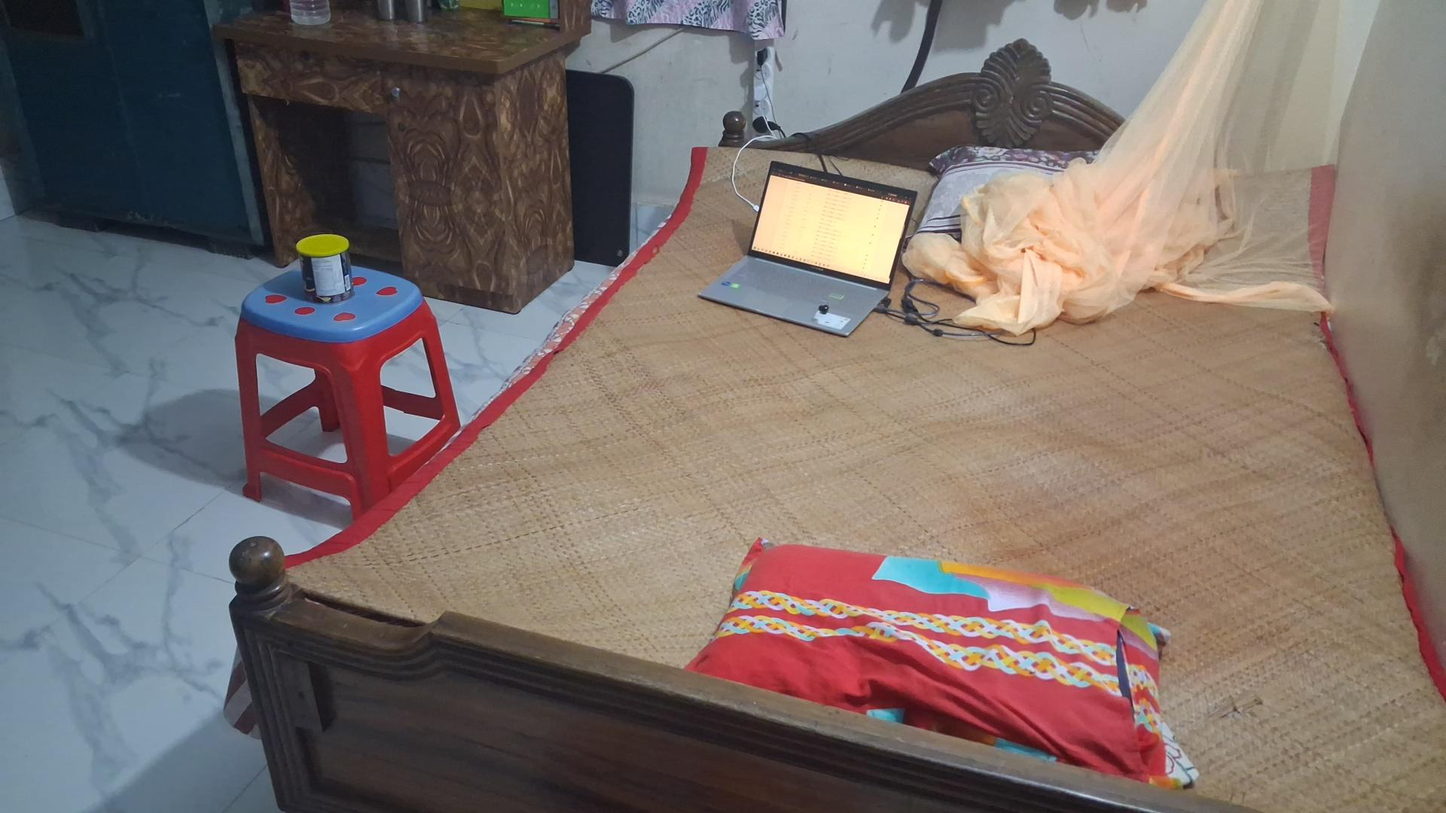Jar: (296, 232, 355, 303)
Laptop: (697, 157, 935, 337)
Pillow: (687, 533, 1195, 792)
Stool: (233, 269, 464, 521)
